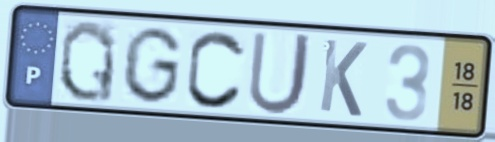3: (382, 42, 432, 124)
C: (183, 27, 249, 112)
G: (118, 23, 185, 107)
K: (316, 35, 371, 120)
Q: (56, 16, 118, 105)
U: (244, 28, 316, 118)
